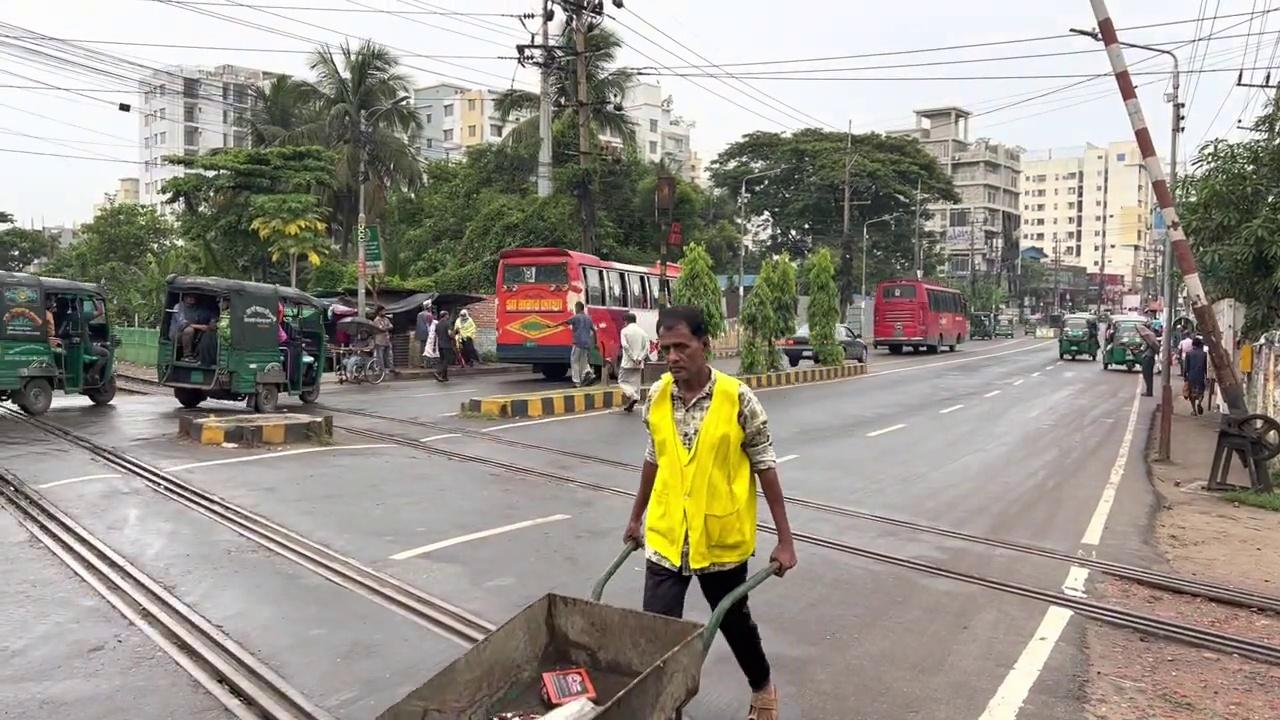Bollard: (774, 322, 868, 367)
Broken-road: (459, 359, 868, 419)
Downstairs: (374, 545, 785, 718)
Fence: (622, 304, 798, 719), (168, 293, 216, 363), (617, 311, 649, 412), (562, 301, 596, 387)
Garbage: (1088, 0, 1249, 420)
Motorcycle: (300, 397, 1278, 666)
Railroad-crossing: (737, 252, 798, 374), (670, 239, 725, 349), (802, 245, 844, 365)
Rickshaw: (494, 246, 683, 380), (156, 272, 328, 413), (0, 269, 121, 415)
